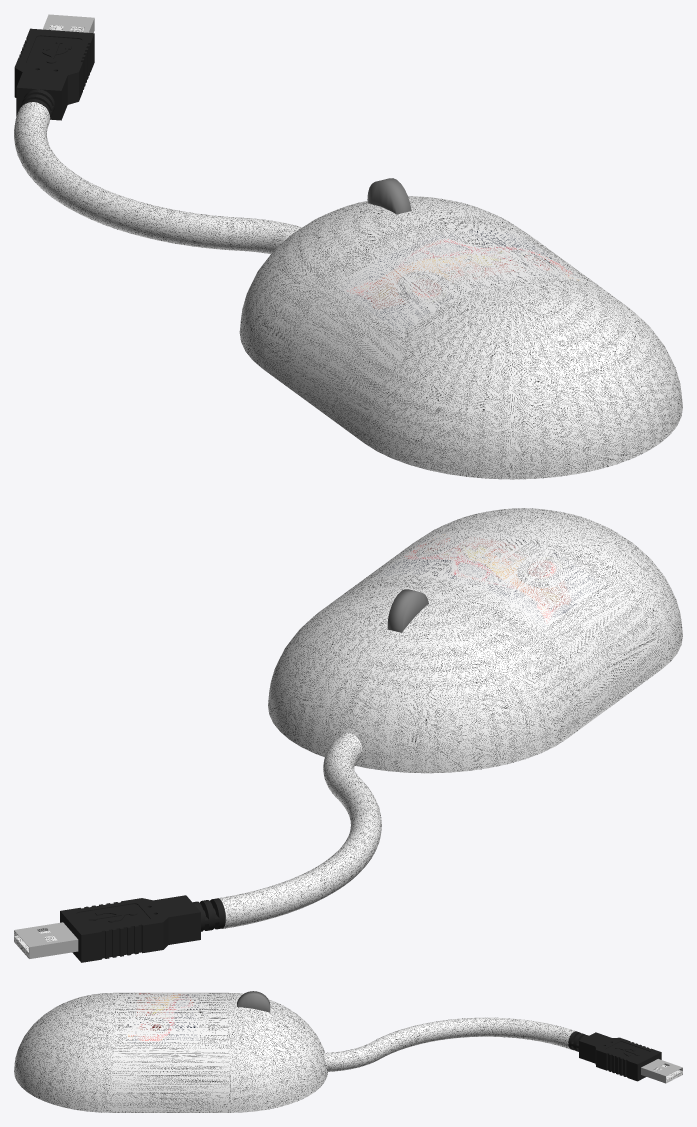
3 views of the same model, one above another, from view 1: azimuth 30°, elevation 25°; view 2: azimuth 150°, elevation 25°; view 3: azimuth 270°, elevation 25° (orthographic). The views are drawn at different scales.
Visible parts, largest first — view 1: SketchUp (×5); view 2: SketchUp (×7); view 3: SketchUp (×8).
Boxes of the visible parts, left/top/right/bottom form: SketchUp (×5): left=14, top=28, right=682, bottom=479; SketchUp (×7): left=14, top=508, right=682, bottom=962; SketchUp (×8): left=14, top=991, right=682, bottom=1112.
Size of the model in its own units: 2.85 by 9.69 by 1.25.
